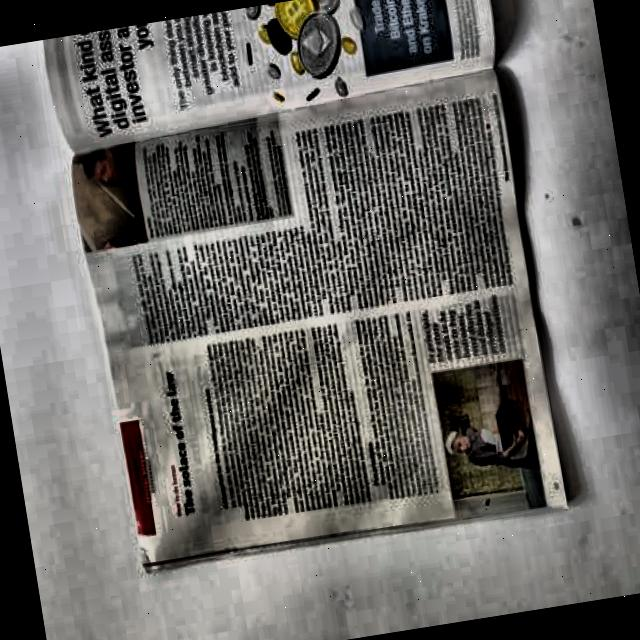paper: (27, 0, 580, 586)
